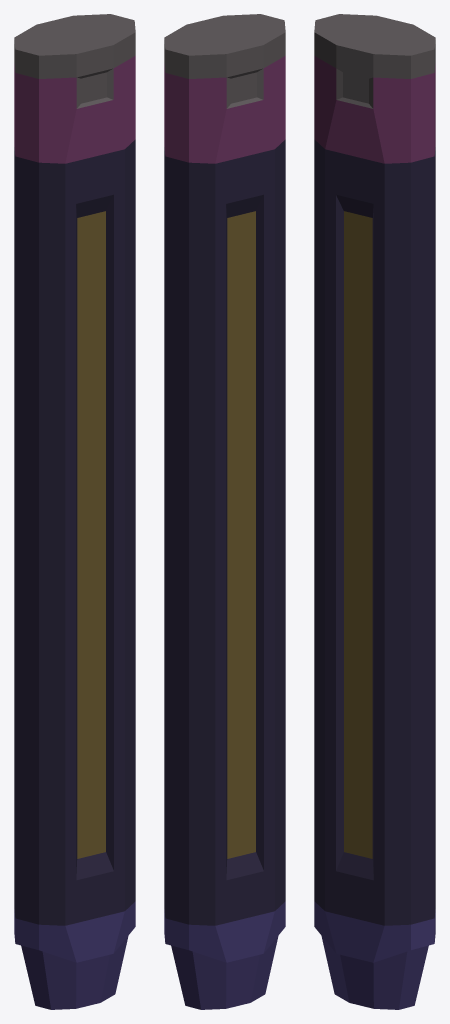
The model's file is autoinjector.glb.
3 views of the same model, side by side, from view 1: azimuth 30°, elevation 25°; view 2: azimuth 210°, elevation 25°; view 3: azimuth 330°, elevation 25° (orthographic).
Visible parts, largest first — view 1: Consumable - Autoinjector; view 2: Consumable - Autoinjector; view 3: Consumable - Autoinjector.
Part boxes in pixels (box(x1,y1,x2,y2)): Consumable - Autoinjector: box(14, 14, 135, 1009); Consumable - Autoinjector: box(164, 14, 285, 1009); Consumable - Autoinjector: box(314, 14, 435, 1009).
Bounding box in the file's own units: 0.0368 × 0.283 × 0.0215.
